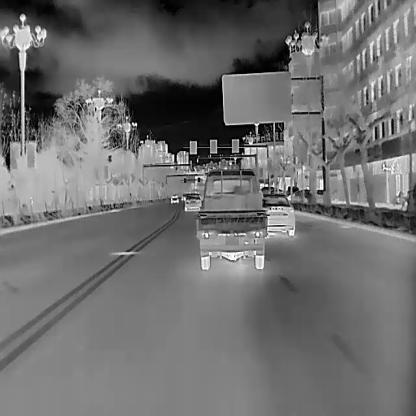car: (195, 168, 267, 271), (259, 193, 295, 238), (292, 188, 324, 204), (184, 193, 201, 211), (261, 186, 282, 196), (285, 186, 298, 198), (170, 193, 178, 203), (181, 194, 185, 203)
